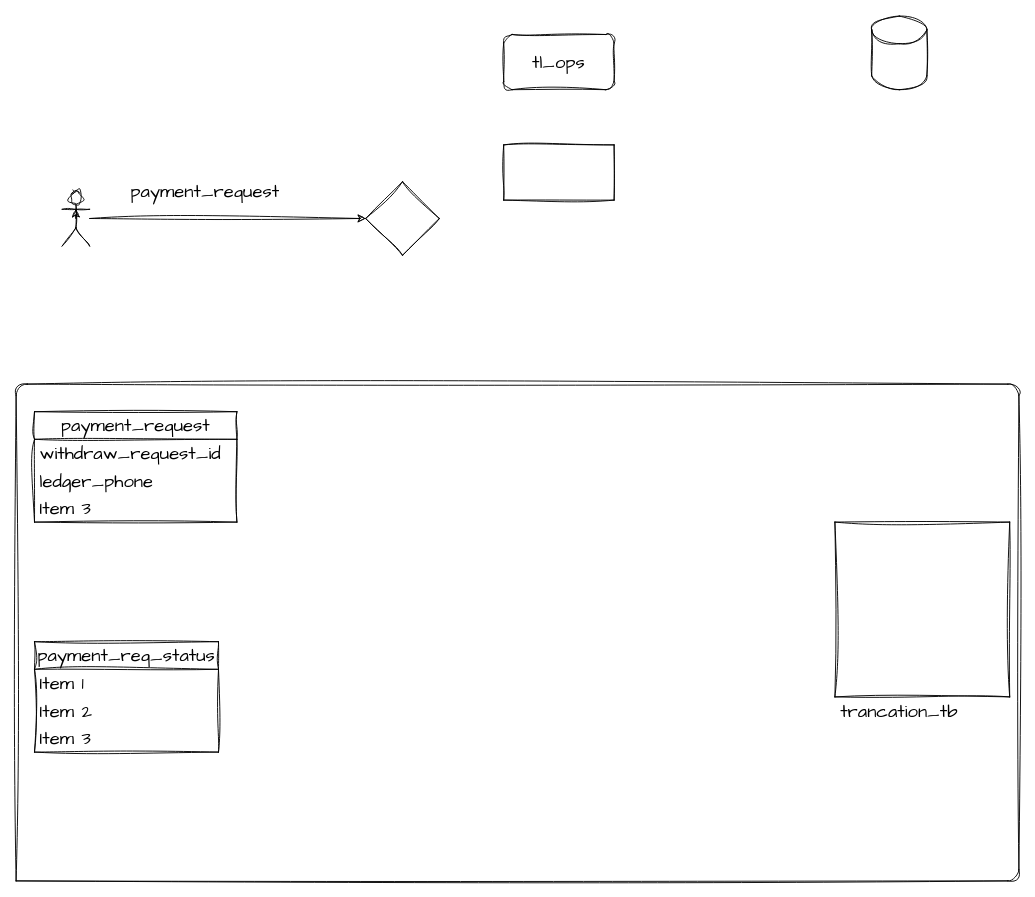
Some shapes in this 1035 by 897 pixel diagram are drawn without their labels. Each missing label, with the centre of its shape:
"mfs" goes at [558,172].
"owner" goes at [75,218].
